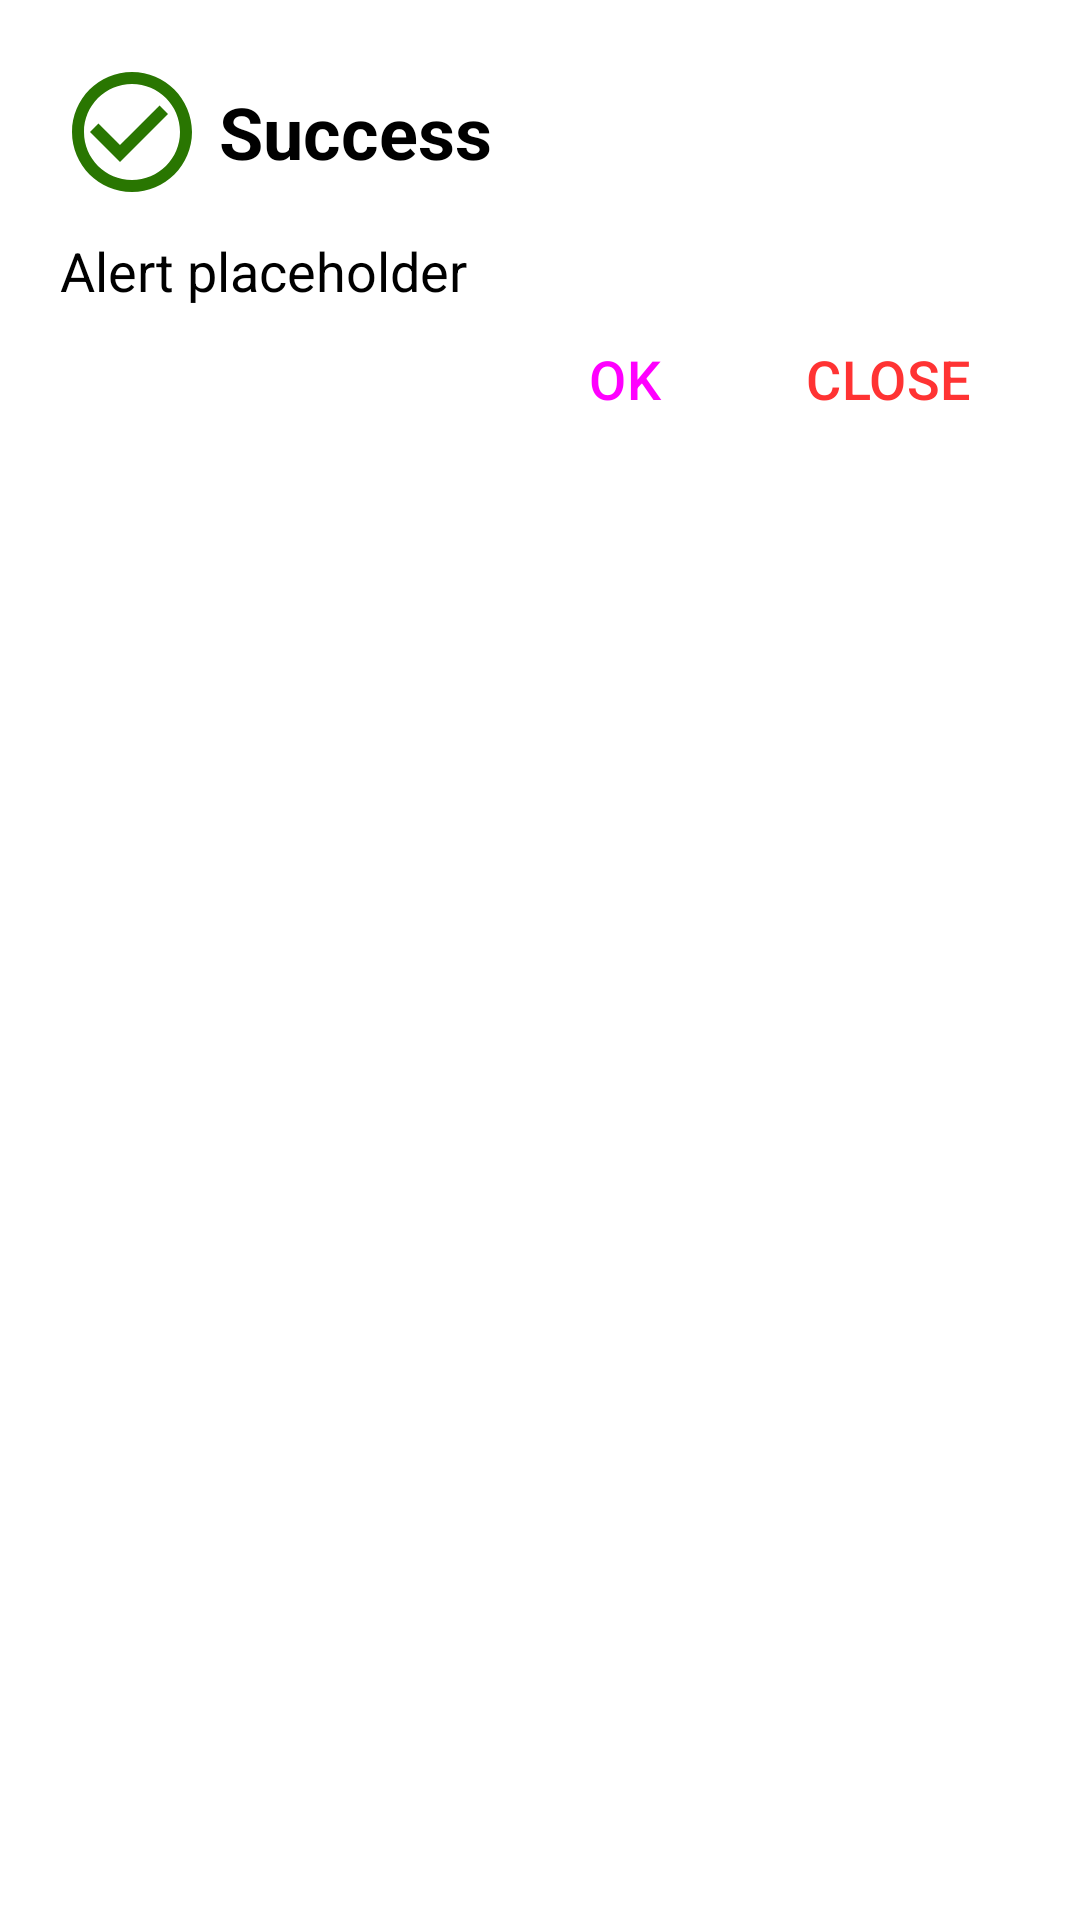

Named icons in this screenshot (1080×1920) and their centers, (x,y):
check circle: (132,132)
